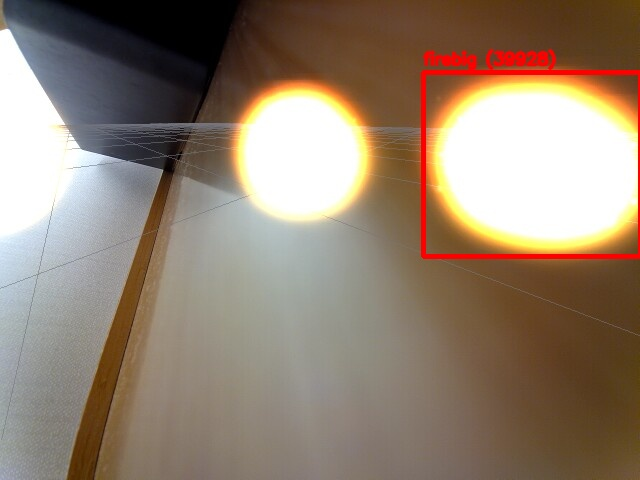firebig: (423, 72, 640, 256)
